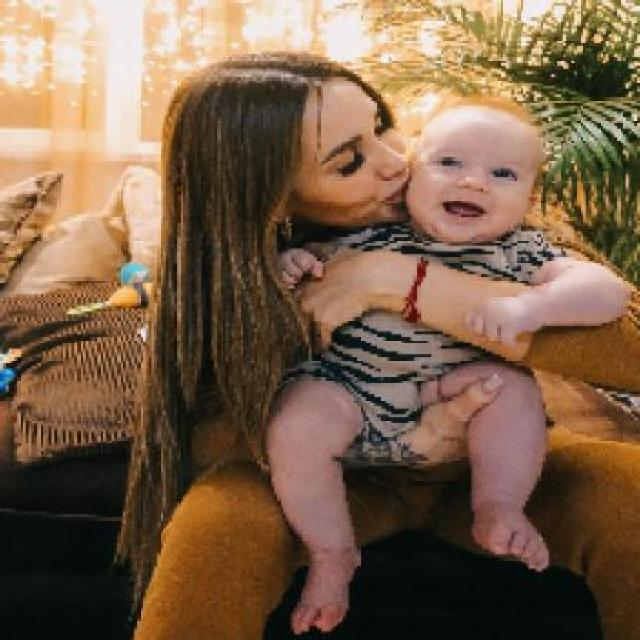child: (262, 97, 635, 637)
